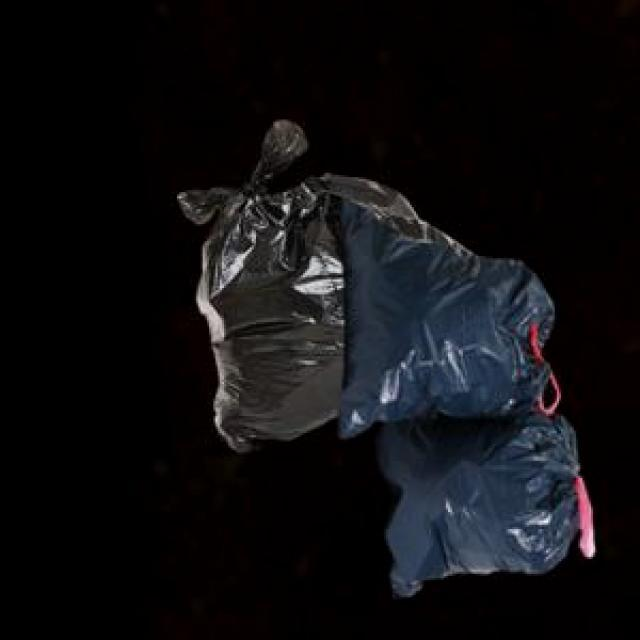Trashbag: (316, 178, 557, 440), (176, 184, 348, 456), (371, 401, 588, 600)
